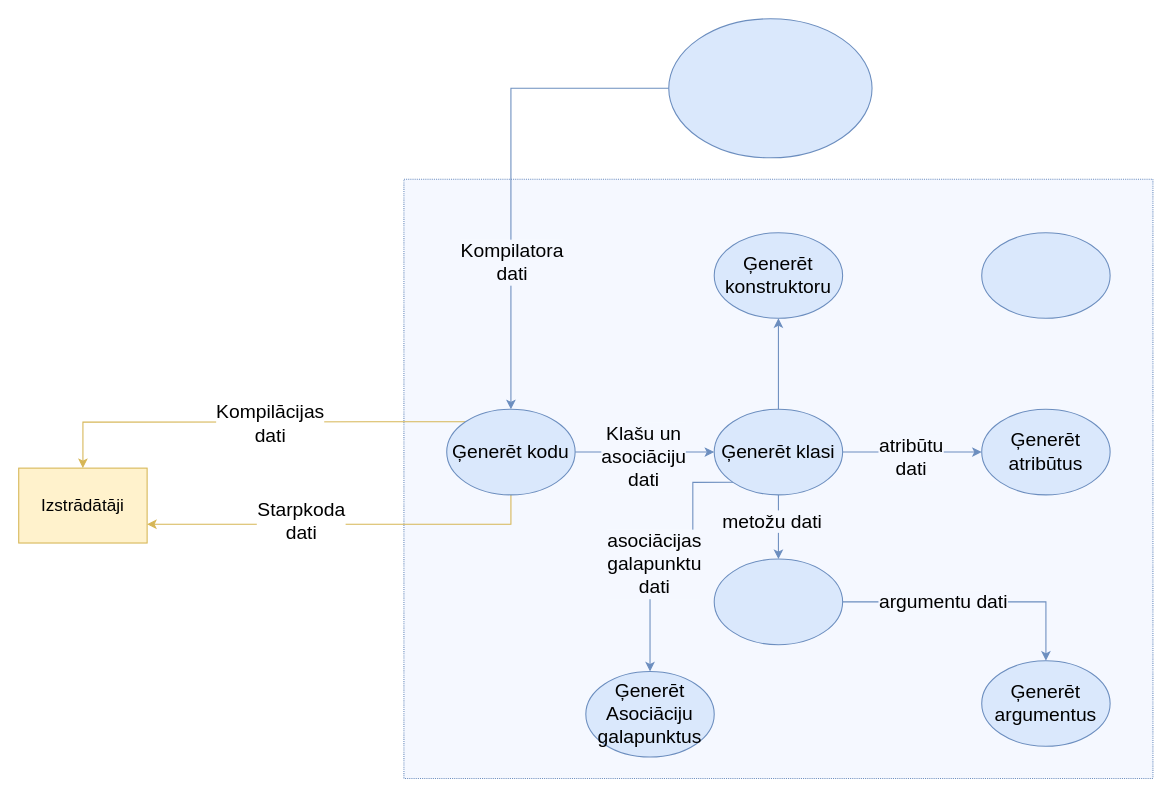
The diagram is 1172 pixels wide and 797 high, and some of its shapes have lost their labels. Here are the shapes that lost their labels. From the top down, the centre of each, then its label:
pixel 770 88: Kompilatora modulis
pixel 1045 275: Ģenerēt klasi "BaseObject"
pixel 778 601: Ģenerēt metodes
